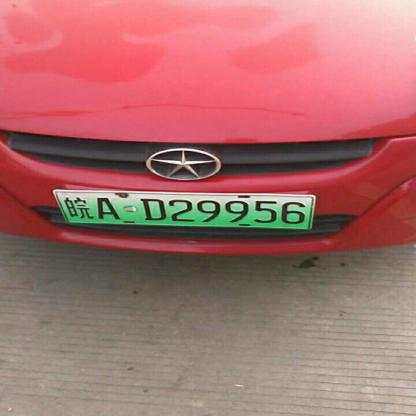lp: (56, 191, 68, 227)
